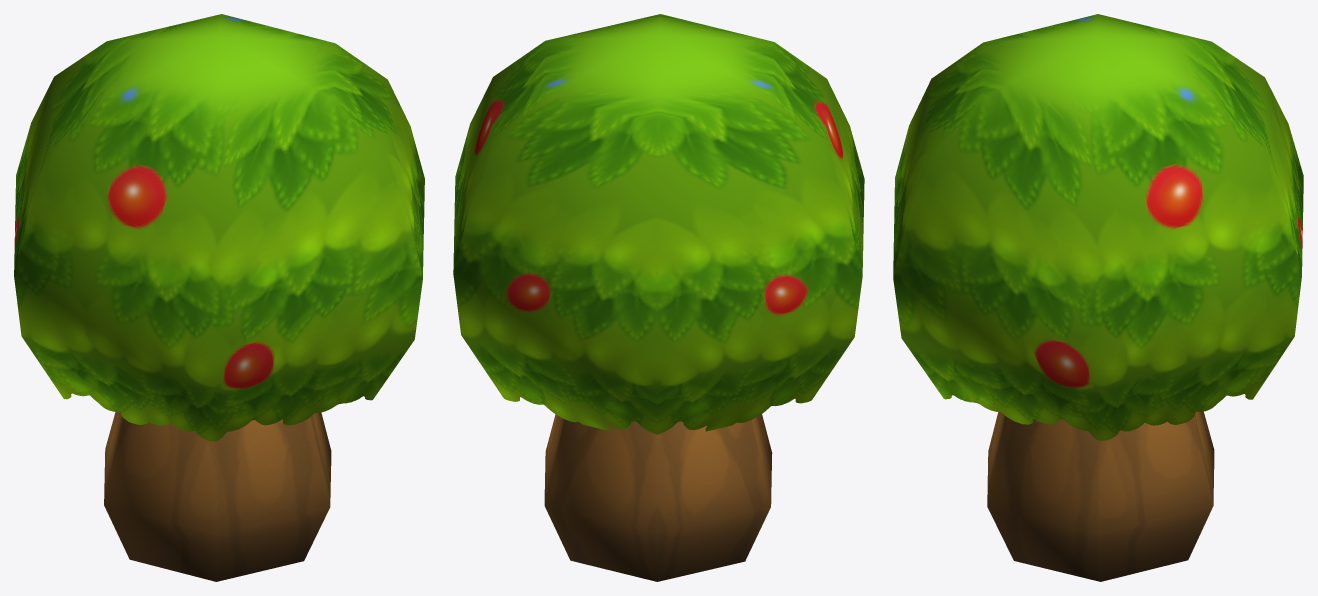
The model's file is Shrub_06.FBX.
3 views of the same model, side by side, from view 1: azimuth 30°, elevation 25°; view 2: azimuth 150°, elevation 25°; view 3: azimuth 270°, elevation 25° (orthographic).
Parts seen in each view (by area): view 1: Shrub_06; view 2: Shrub_06; view 3: Shrub_06.
Part boxes in pixels (<box>): Shrub_06: <box>14,14,424,581</box>; Shrub_06: <box>453,14,864,581</box>; Shrub_06: <box>893,14,1303,581</box>.
Size of the model in its own units: 1.22 by 1.44 by 1.06.
